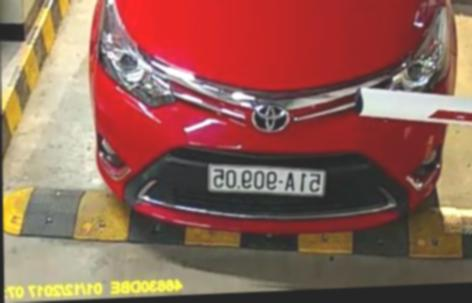License_Plate: (205, 152, 325, 203)
